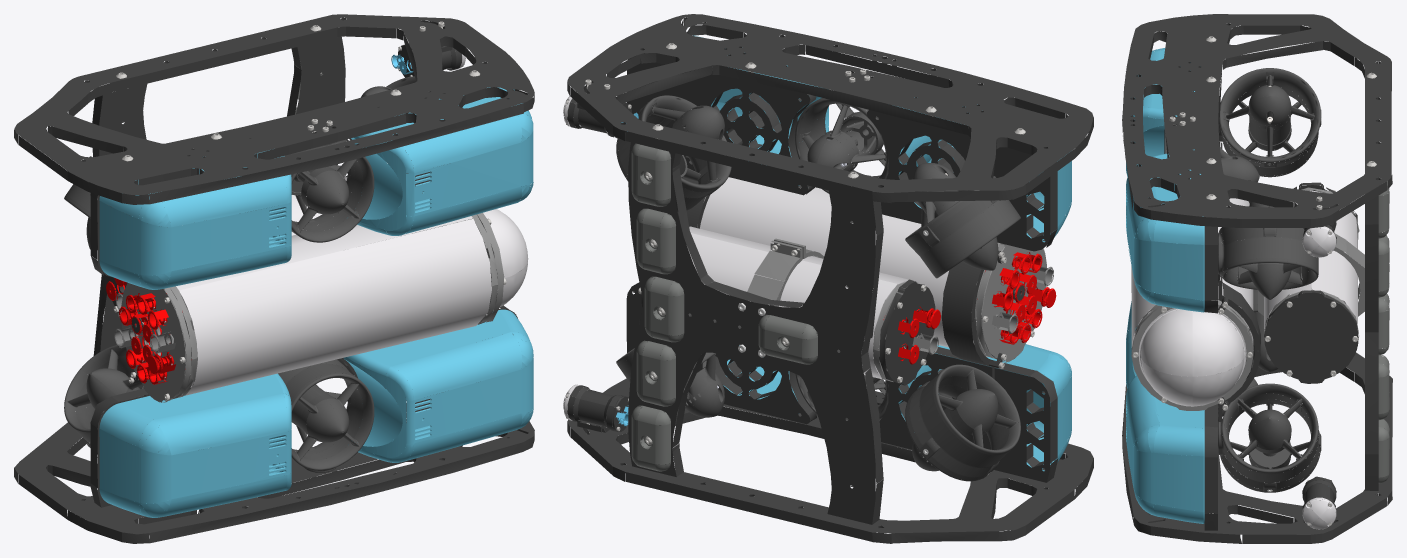
The model's file is bluerov2-optimized.glb.
3 renders of one model, left to right at view 1: azimuth 30°, elevation 25°; view 2: azimuth 150°, elevation 25°; view 3: azimuth 270°, elevation 25°, orthographic. The views are drawn at different scales.
Parts seen in each view (by area): view 1: ID610-mesh; view 2: ID610-mesh; view 3: ID610-mesh.
Part boxes in pixels (x1,y1,x2,y2): ID610-mesh: (14,14,534,543); ID610-mesh: (563,14,1093,543); ID610-mesh: (1122,14,1392,543).
Bounding box in the file's own units: 0.4576 × 0.3442 × 0.2553.
1 material, 1 textured.
